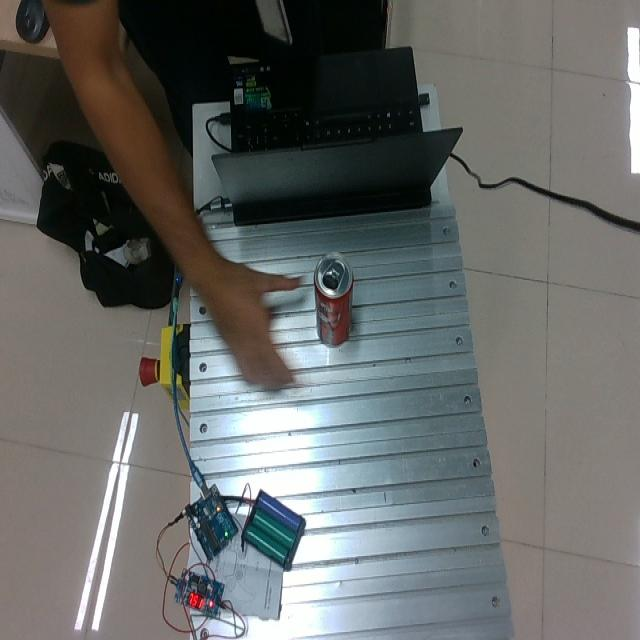coca: (313, 252, 354, 347)
